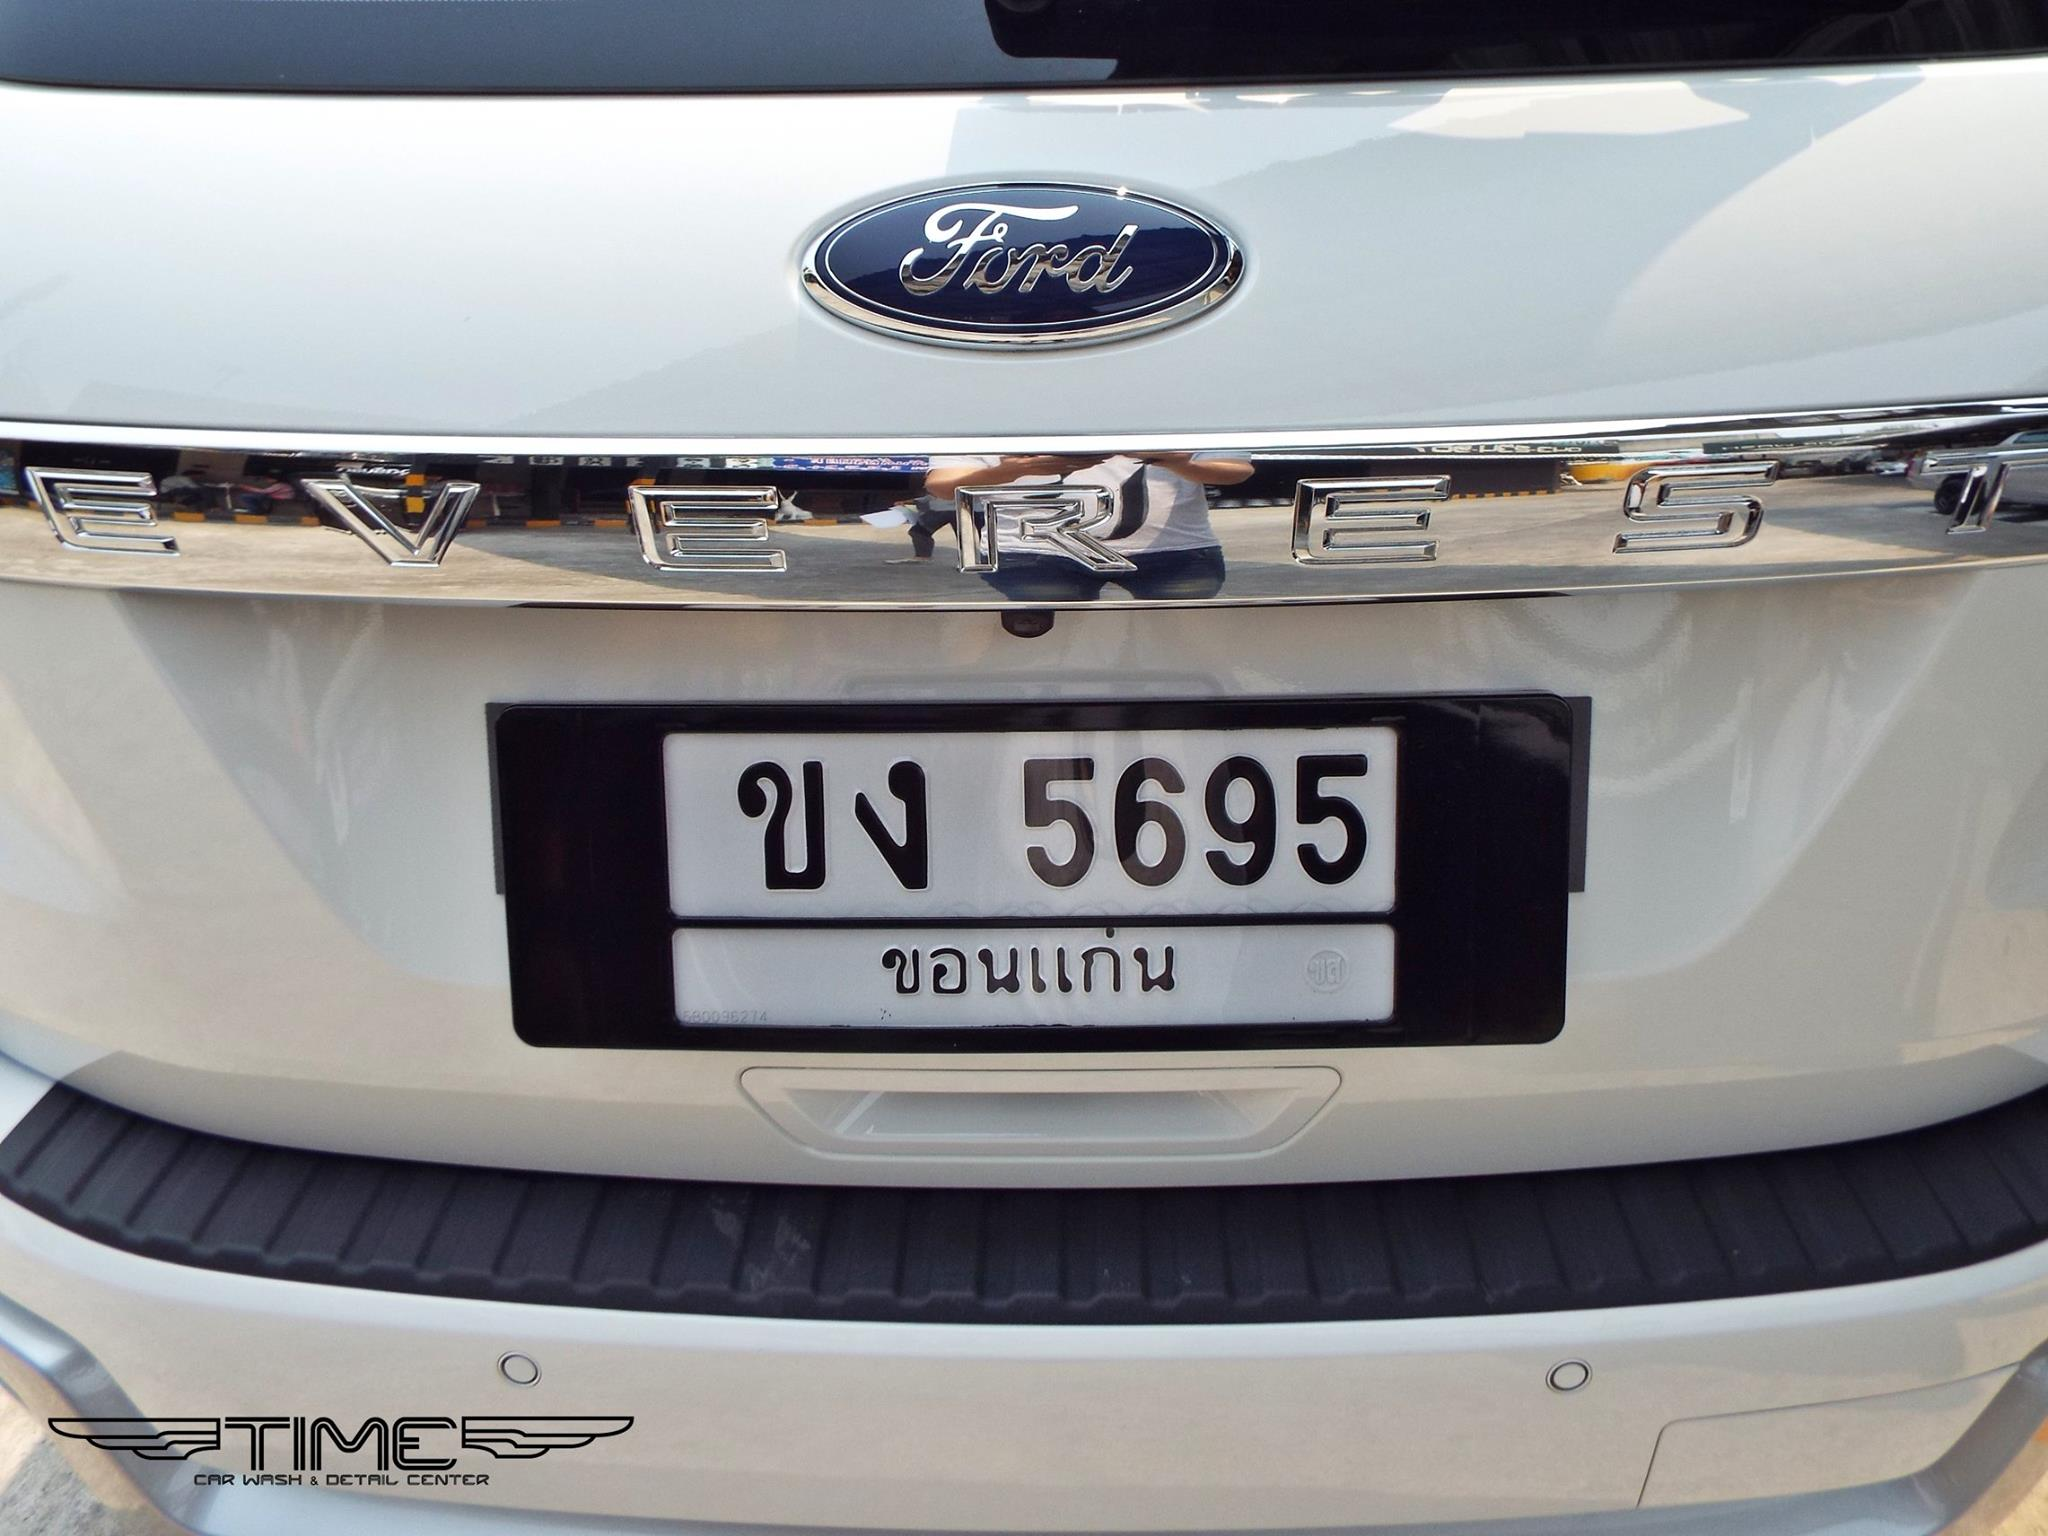Non-Bangkok: (849, 910, 1189, 1024)
